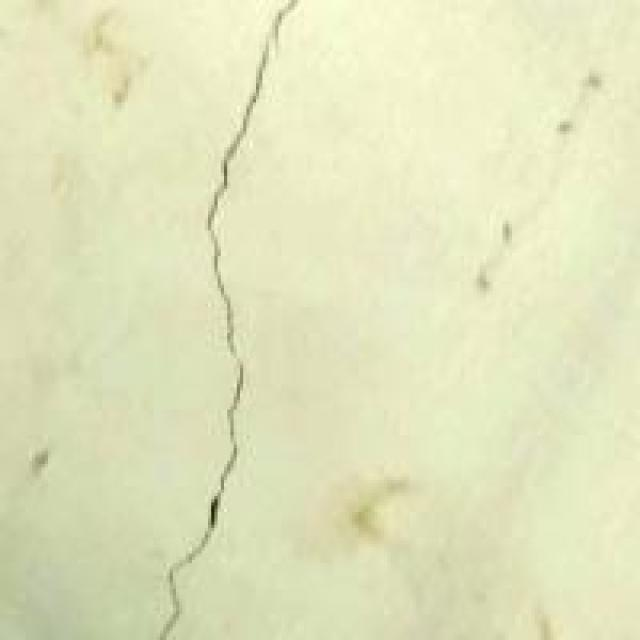crack: (141, 0, 342, 637)
